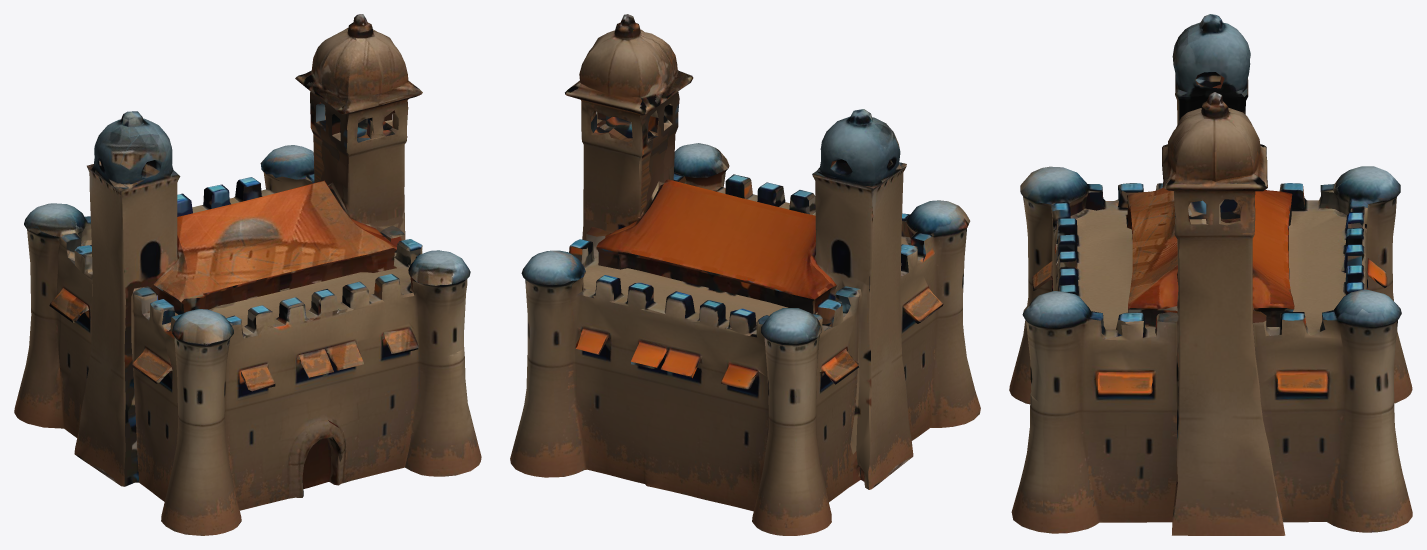
File: etiopia_maravilla.glb
3 views of the same model, side by side, from view 1: azimuth 30°, elevation 25°; view 2: azimuth 150°, elevation 25°; view 3: azimuth 270°, elevation 25° (orthographic). The views are drawn at different scales.
Parts seen in each view (by area): view 1: geometry_0; view 2: geometry_0; view 3: geometry_0.
Part boxes in pixels (box(x1,y1,x2,y2)): geometry_0: box(14, 14, 481, 535); geometry_0: box(510, 14, 980, 535); geometry_0: box(1009, 14, 1412, 535).
Bounding box in the file's own units: 5.23 × 6.2 × 5.4.
1 material, 1 textured.
